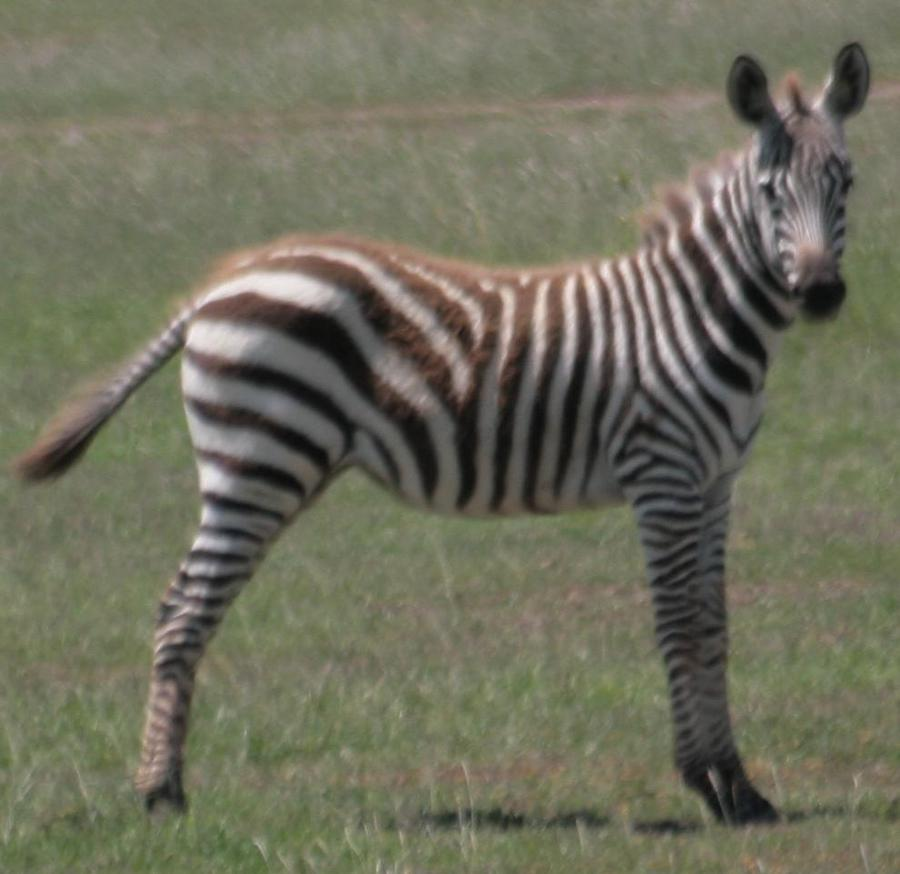zebra_plains: (150, 166, 786, 582)
